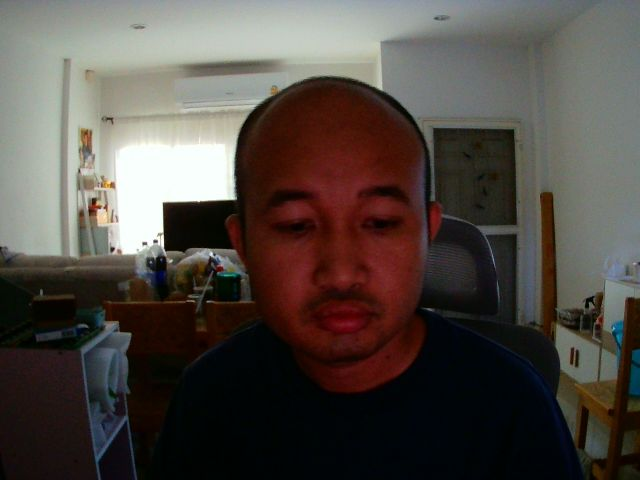face: (223, 70, 431, 368)
